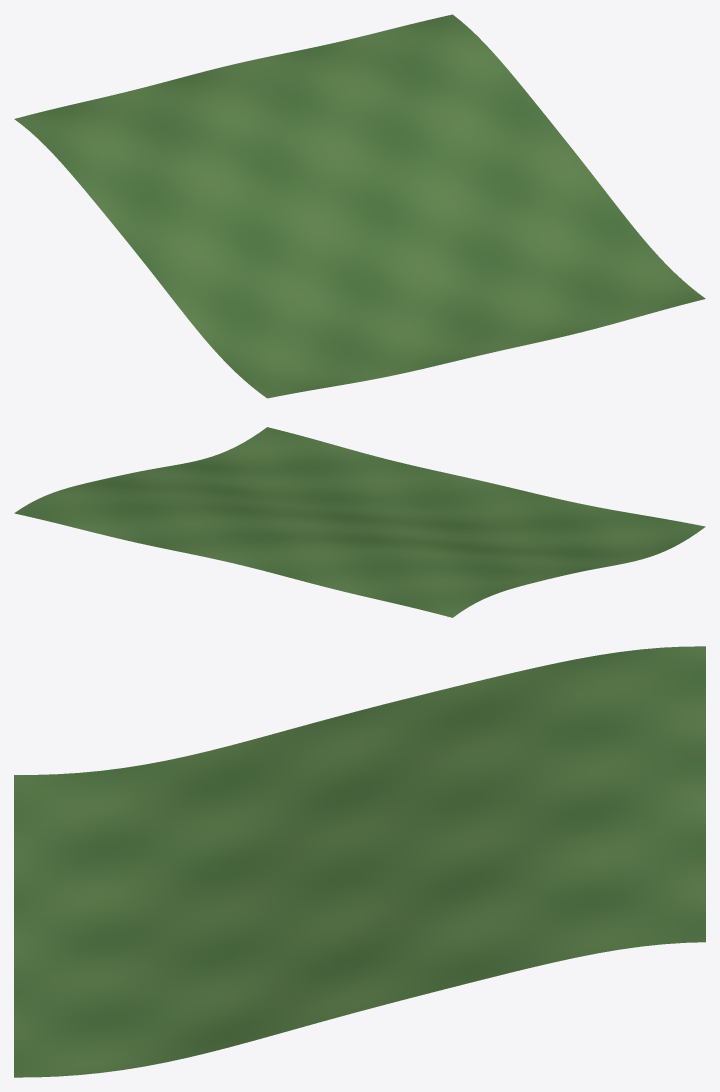
File: chunk_7_0.glb
The picture shows the model from 3 angles, top to bottom: view 1: azimuth 30°, elevation 25°; view 2: azimuth 150°, elevation 25°; view 3: azimuth 270°, elevation 25°; orthographic projection. The views are drawn at different scales.
Size of the model in its own units: 512 by 118 by 512.
